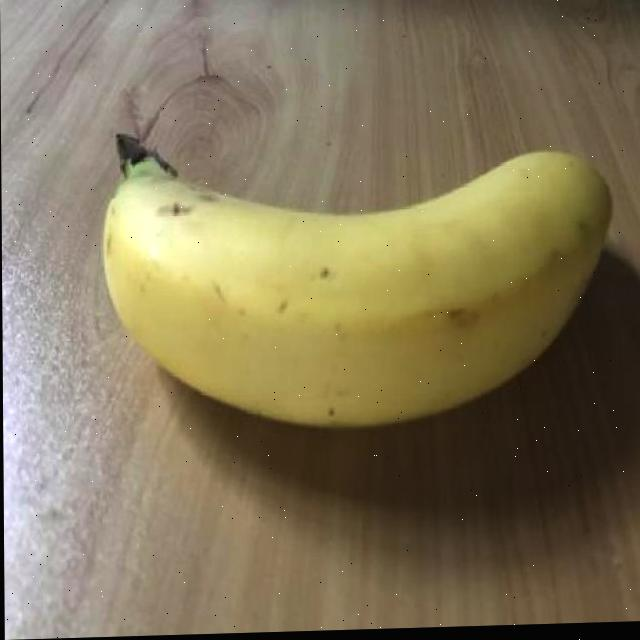banana: (91, 107, 616, 446)
